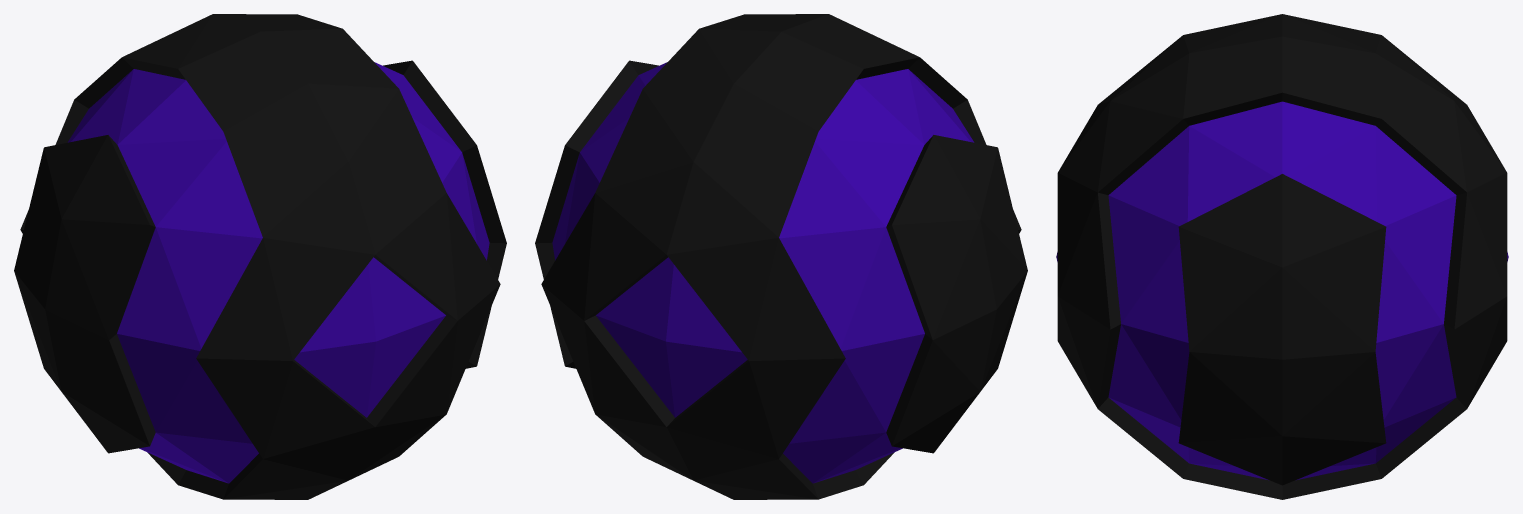
File: pelota.FBX
3 renders of one model, left to right at view 1: azimuth 30°, elevation 25°; view 2: azimuth 150°, elevation 25°; view 3: azimuth 270°, elevation 25°, orthographic. The views are drawn at different scales.
Parts seen in each view (by area): view 1: coraza, baseLuminosa; view 2: coraza, baseLuminosa; view 3: coraza, baseLuminosa.
Part boxes in pixels (bbox=[...]): coraza: bbox=[14, 14, 506, 499]; baseLuminosa: bbox=[67, 62, 489, 483]; coraza: bbox=[535, 14, 1027, 499]; baseLuminosa: bbox=[552, 62, 974, 483]; coraza: bbox=[1057, 14, 1507, 499]; baseLuminosa: bbox=[1056, 101, 1508, 480].
Size of the model in its own units: 85.66 by 79.66 by 85.66.
